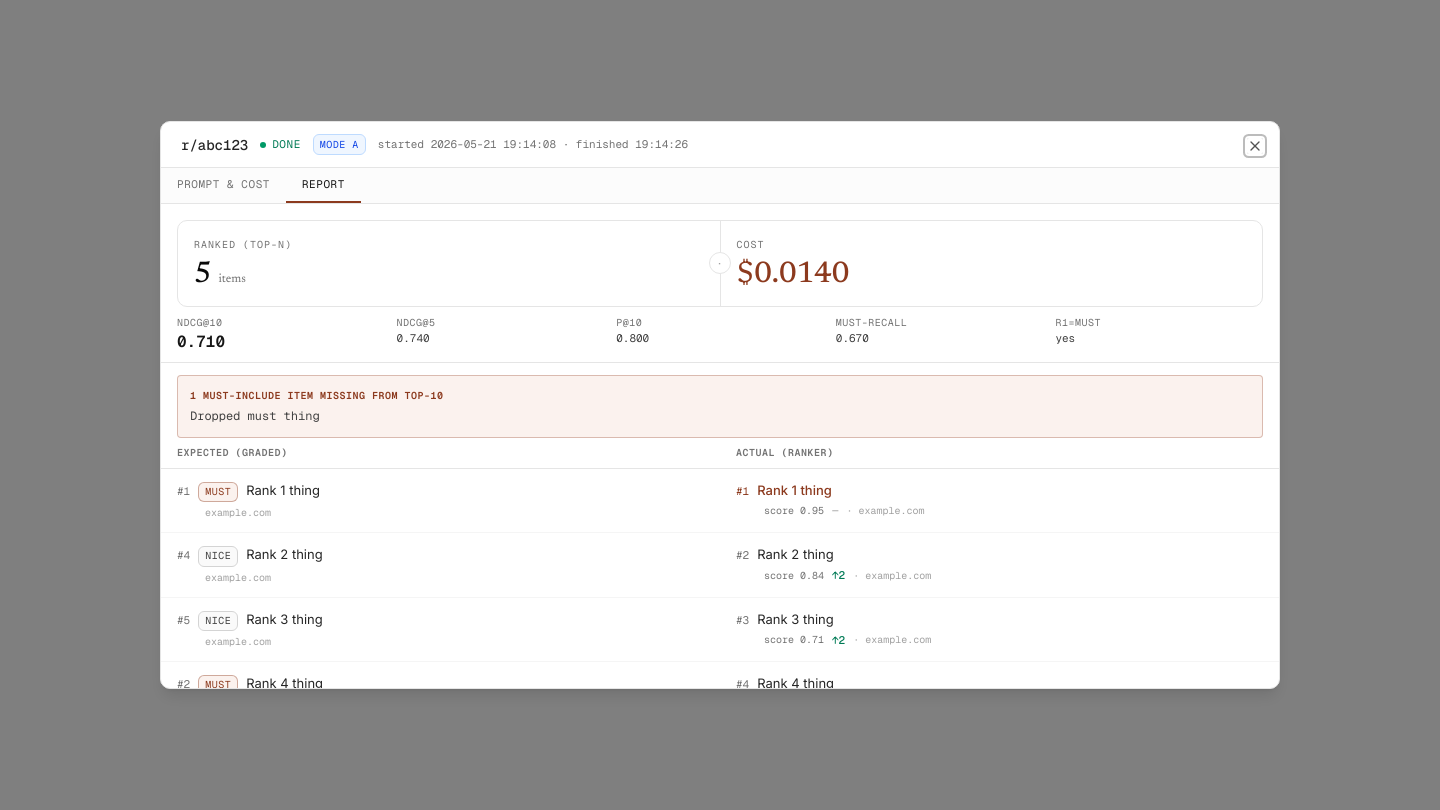
Test case: RunDetailDrawer — Report tab › expander toggles rationale / summary / bullets / bottom line for an actual row
Click the button "#1 Rank 1 thing" at [795, 490], box [736,481,1263,500]
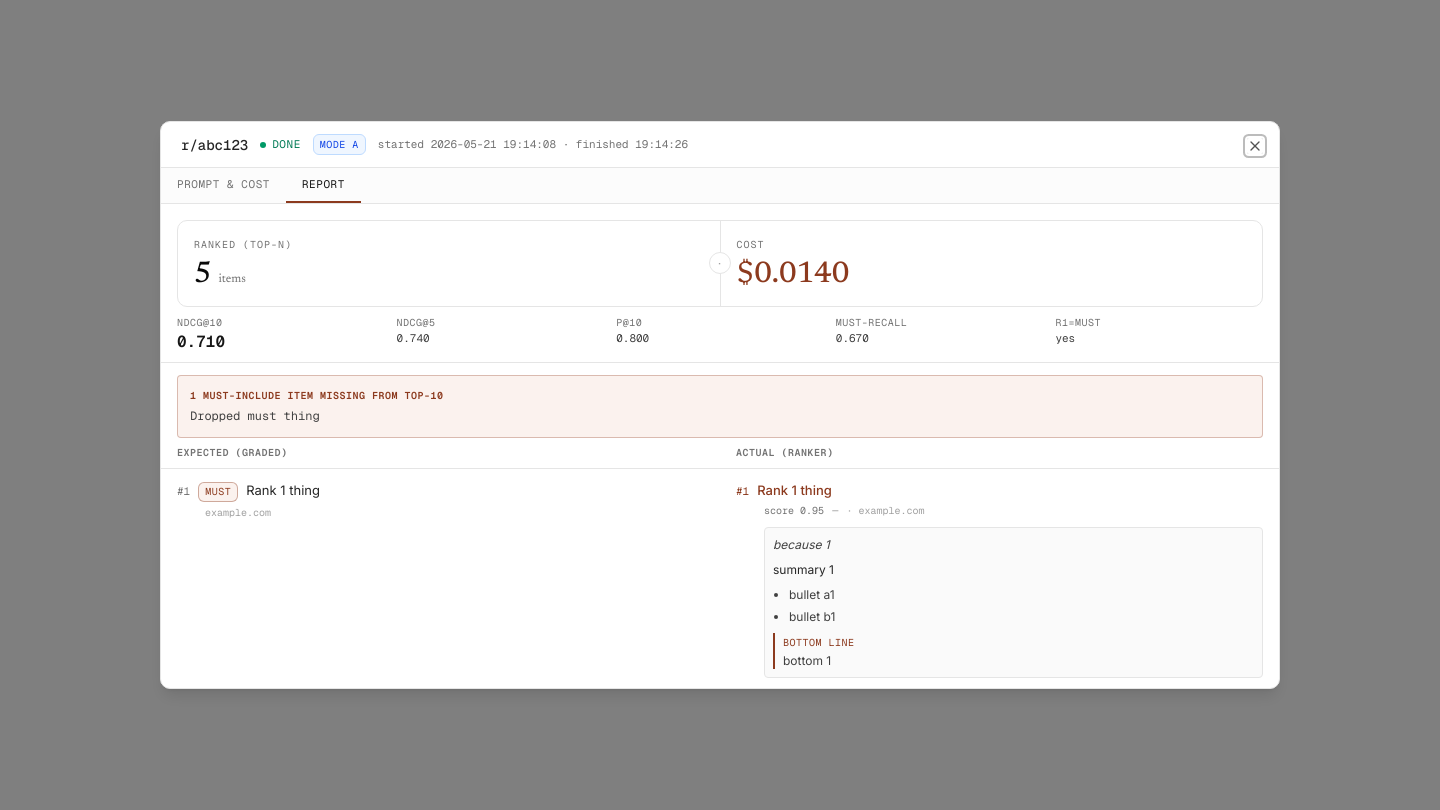
Now the element with test id "drawer-report-rationale-101" shows "because 1", box [773,537,830,552]
Now the element with test id "drawer-report-rationale-101" shows "summary 1", box [773,562,834,577]
Now the element with test id "drawer-report-rationale-101" shows "bullet a1", box [789,588,835,602]
